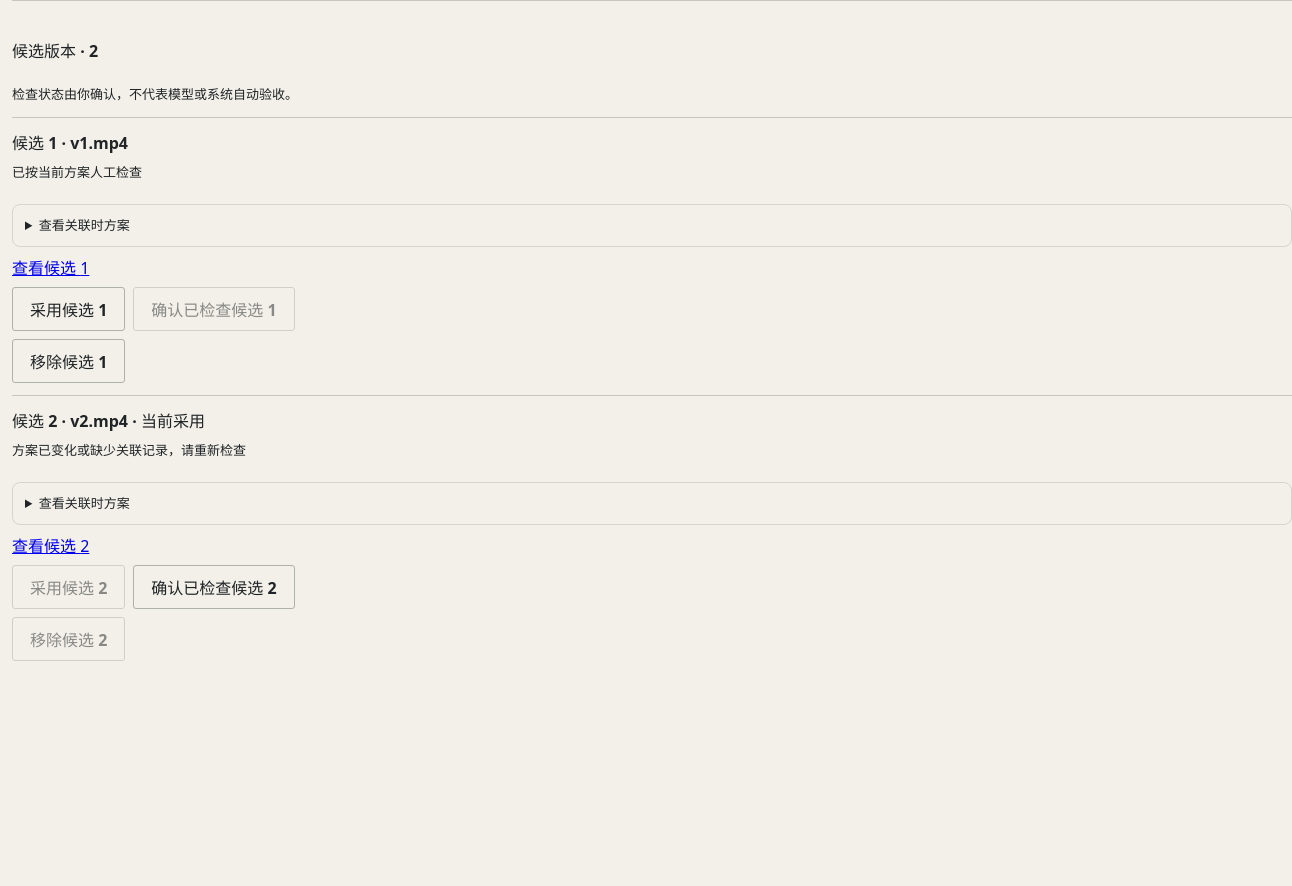
Test: 用户可保存候选专属外部制作备注
The image size is (1292, 886).
Click the heading "查看关联时方案" below "v1.mp4" at (84, 225), box [39,216,130,234]
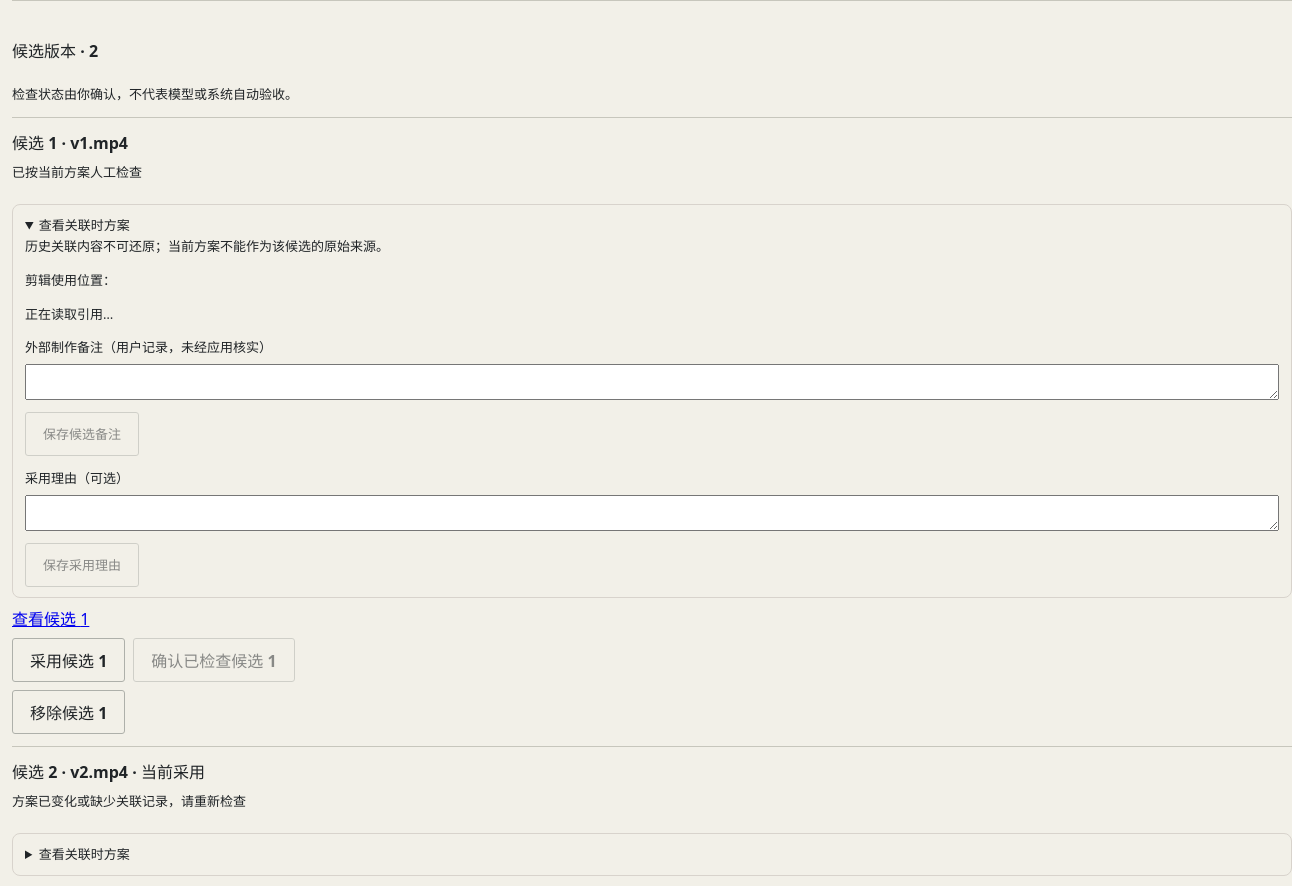
Type "外部工具制作" into the text box labelled "外部制作备注（用户记录，未经应用核实）" at (652, 382), box [25,364,1279,400]
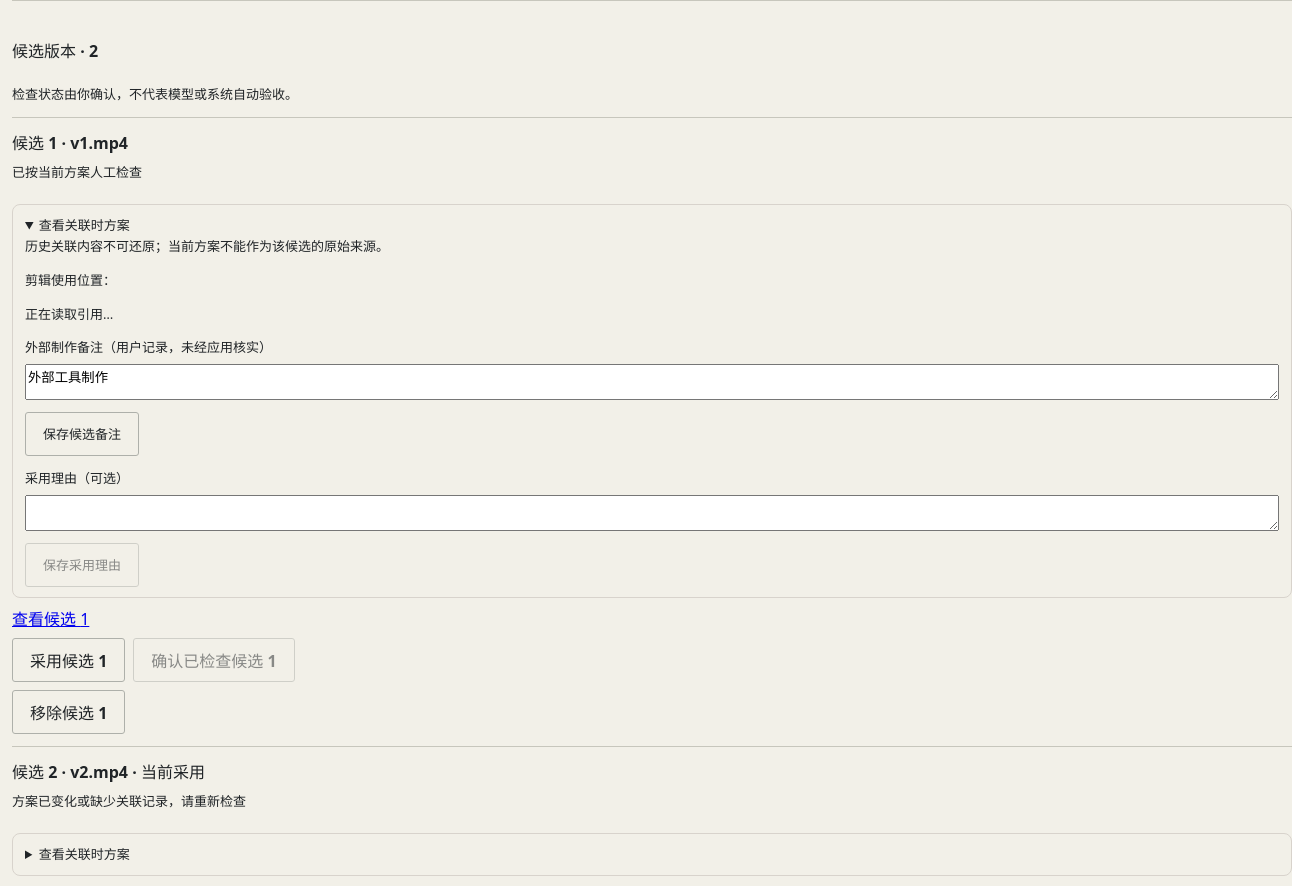
Click the button "保存候选备注" at (82, 434), box [25,412,139,456]
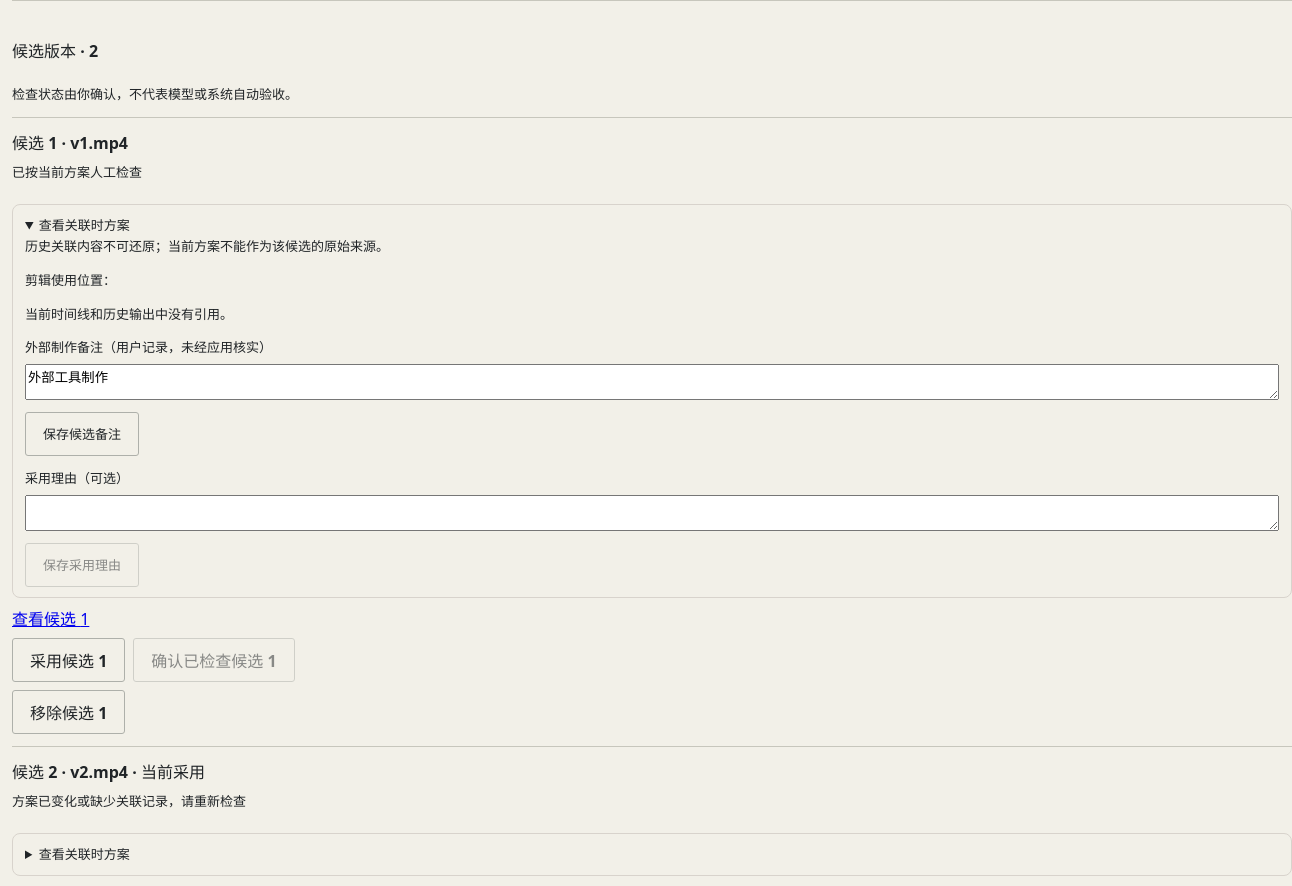
Expected: the text "当前时间线和历史输出中没有引用。" is shown, [25,304,233,322]
